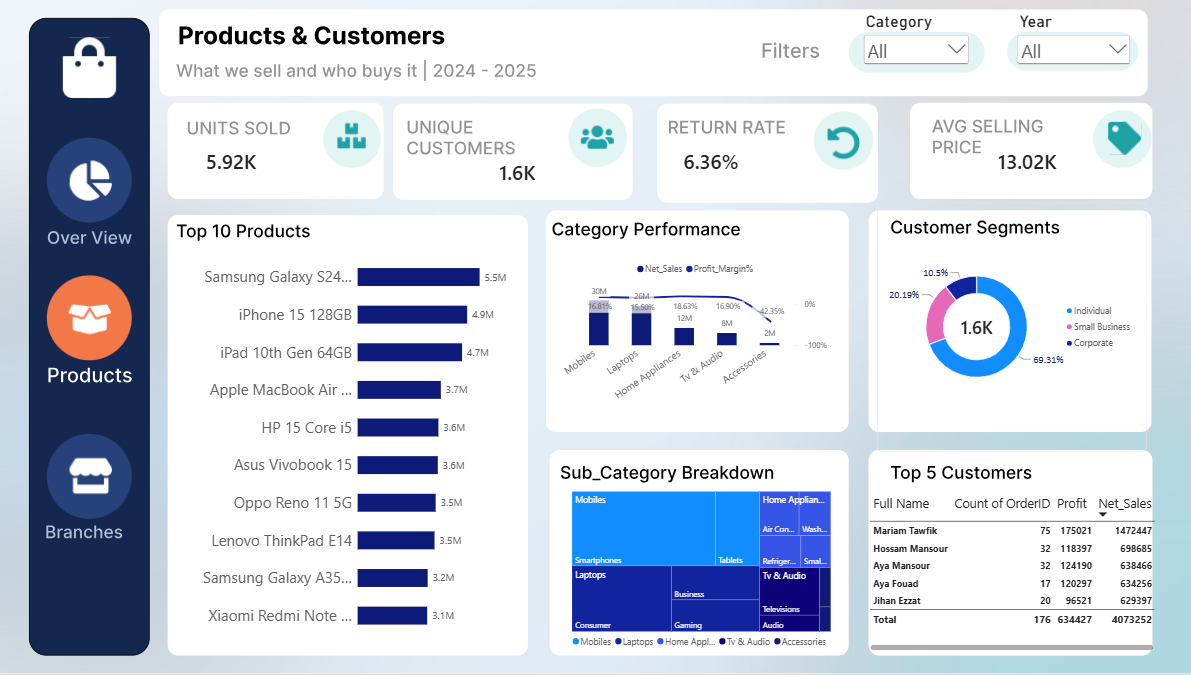

This screenshot's page, from the dashboard's own definition file:
{"tool":"powerbi","page":{"name":"Products&Customers","canvas":[1920,1080],"ordinal":2},"visuals":[{"type":"cardVisual","fields":{"Data":["Sum(Sales.Quantity_modify)"]},"box":[192,192,381.2,135],"z":0},{"type":"slicer","fields":{"Values":["Customers.JoinDate.Variation.Date Hierarchy.Year"]},"box":[1636,20,190,148],"z":1000},{"type":"slicer","fields":{"Values":["Products.Category"]},"box":[1390,20,178,120],"z":2000},{"type":"clusteredBarChart","fields":{"Category":["Products.ProductName"],"Y":["_Measures.Net_Sales"]},"box":[310,384,530,658],"z":3000},{"type":"cardVisual","fields":{"Data":["CountNonNull(Customers.CustomerID)"]},"box":[650,210,381.2,135],"z":4000},{"type":"actionButton","box":[96,678,96,110],"z":5000},{"type":"cardVisual","fields":{"Data":["_Measures.AVG Selling Price"]},"box":[1466,192,381.2,135],"z":6000},{"type":"lineClusteredColumnComboChart","fields":{"Category":["Products.Category"],"Y":["_Measures.Net_Sales"],"Y2":["_Measures.Profit_Margin%"]},"box":[892,402,470,276],"z":7000},{"type":"actionButton","box":[114,234,96,110],"z":8000},{"type":"cardVisual","fields":{"Data":["_Measures.Return_Rate%"]},"box":[960,192,381.2,135],"z":9000},{"type":"treemap","fields":{"Details":["Products.SubCategory"],"Group":["Products.Category"],"Values":["_Measures.Net_Sales"]},"box":[928,788,414,254],"z":10000},{"type":"donutChart","fields":{"Category":["Customers.Segment"],"Y":["CountNonNull(Customers.CustomerID)"]},"box":[1416,326,432,398],"z":11000},{"type":"tableEx","fields":{"Values":["Customers.Full Name","Sales.OrderID","_Measures.Profit","_Measures.Net_Sales"]},"box":[1404,788,456,254],"z":12000},{"type":"actionButton","box":[114,450,96,110],"z":13000}]}

Visuals, with their boxes in screenshot pixels (x1, y1, x2, y2), scaled from the page's 1920x1080 canvas onto the 1191x675 screenshot:
cardVisual - Sum(Sales.Quantity_modify): 119/120/356/204
slicer - Customers.JoinDate.Variation.Date Hierarchy.Year: 1015/12/1133/105
slicer - Products.Category: 862/12/973/88
clusteredBarChart - Products.ProductName x _Measures.Net_Sales: 192/240/521/651
cardVisual - CountNonNull(Customers.CustomerID): 403/131/640/216
actionButton: 60/424/119/492
cardVisual - _Measures.AVG Selling Price: 909/120/1146/204
lineClusteredColumnComboChart - Products.Category x _Measures.Net_Sales: 553/251/845/424
actionButton: 71/146/130/215
cardVisual - _Measures.Return_Rate%: 596/120/832/204
treemap - Products.SubCategory x Products.Category: 576/492/832/651
donutChart - Customers.Segment x CountNonNull(Customers.CustomerID): 878/204/1146/452
tableEx - Customers.Full Name x Sales.OrderID: 871/492/1154/651
actionButton: 71/281/130/350
